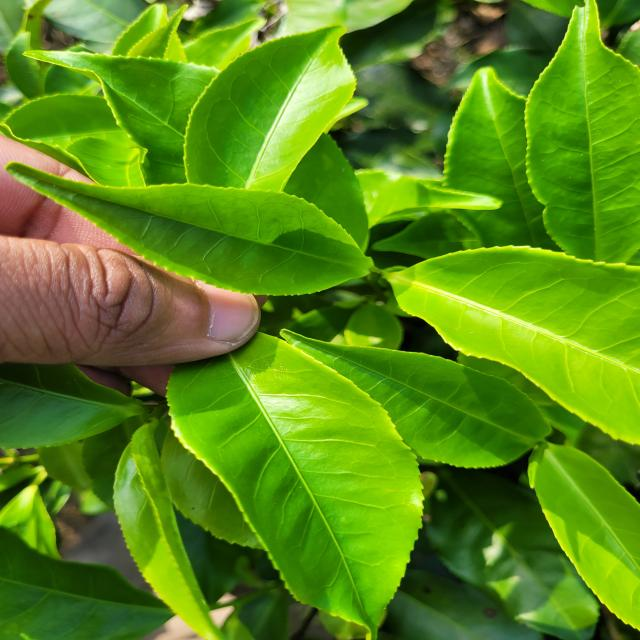Category B 2-4 days: (155, 302, 450, 640)
